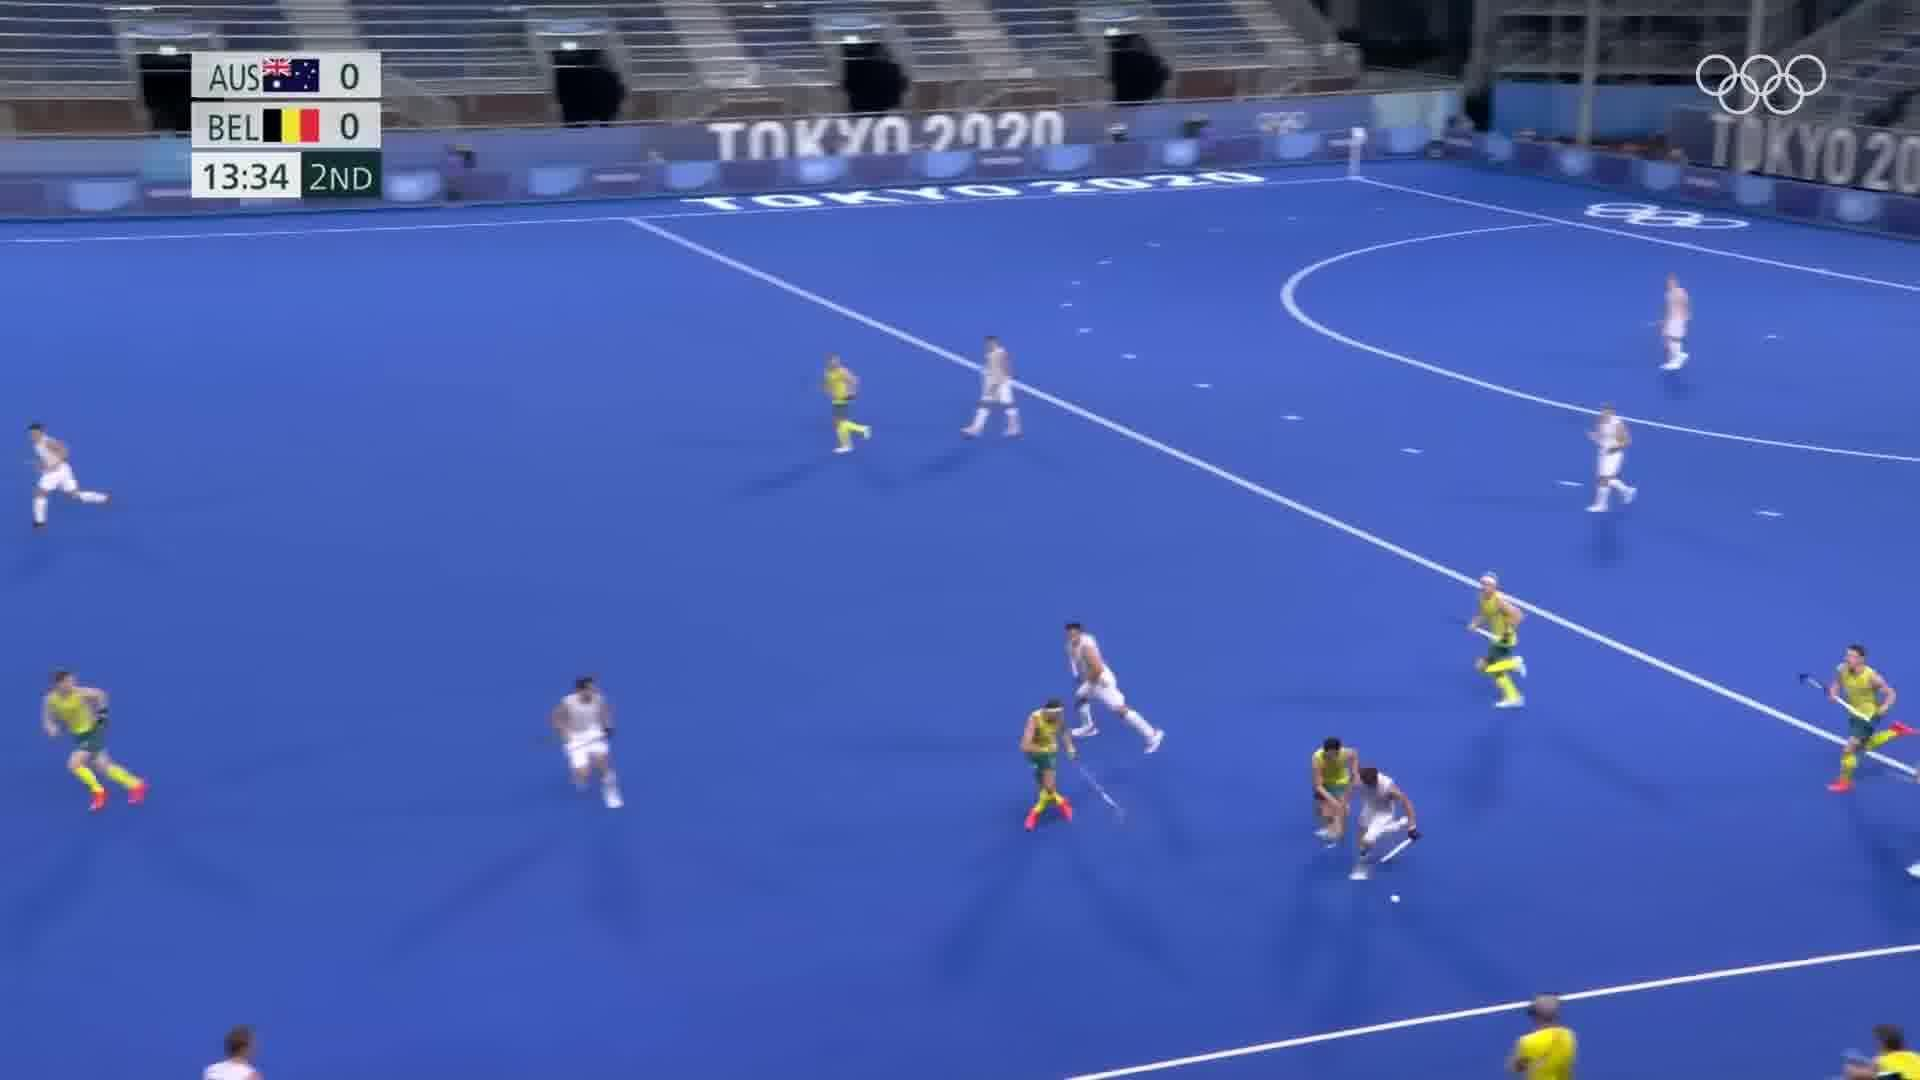ball: (1385, 884, 1404, 910)
